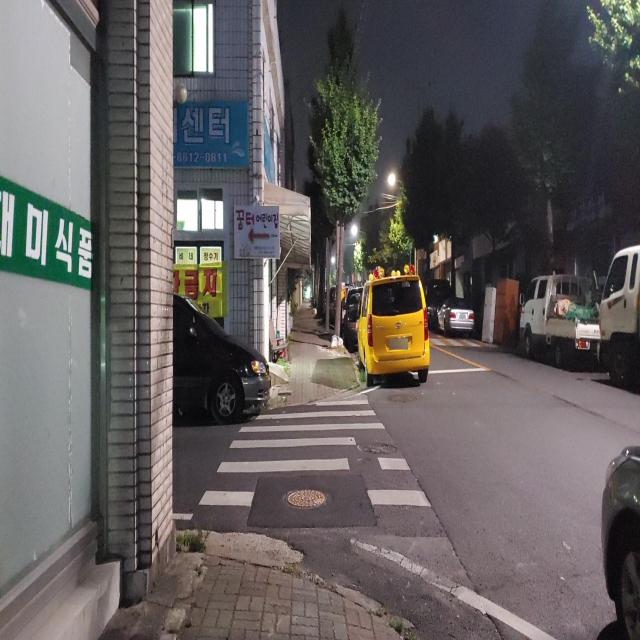횡단보도: (198, 397, 433, 520)
